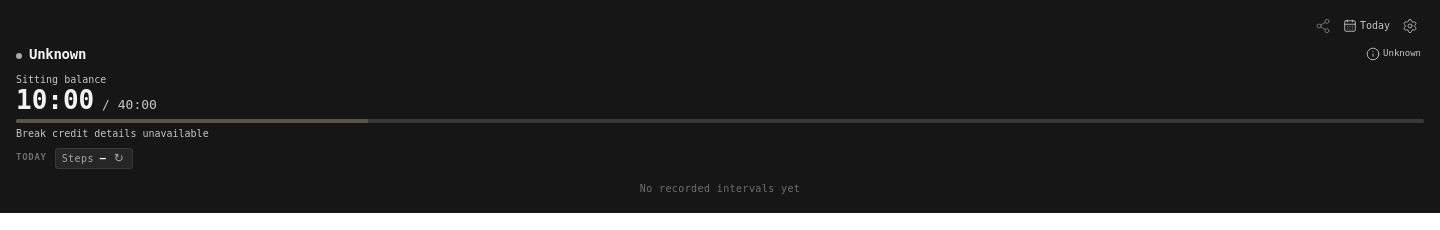
Test: OneBarWidget › separates an unavailable observation from recent input and keeps the credited balance
Expected: the text with class "state-indicator__label" reads "Unknown", [29,46,86,62]
Expected: the element with test id "one-bar-big-number" reads "10:00 / 40:00", [16,86,157,115]
Click the heading with test id "timeline-observation-status": {"x": 1394, "y": 54} [1366,47,1421,61]
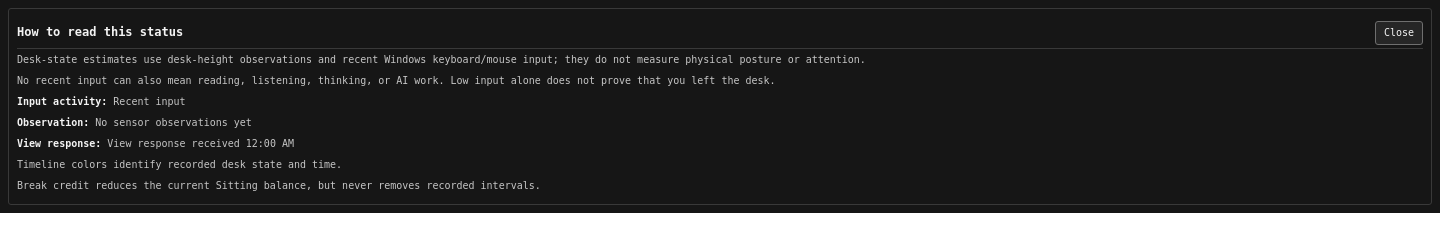
Expected: the element "How to read this status" shows "desk-height observations and recent Windows keyboard/mouse input", [17,54,866,65]
Expected: the element "How to read this status" shows "No recent input can also mean reading, listening, thinking, or AI work", [17,75,776,86]
Expected: the element "How to read this status" shows "Timeline colors identify recorded desk state and time", [17,159,342,170]
